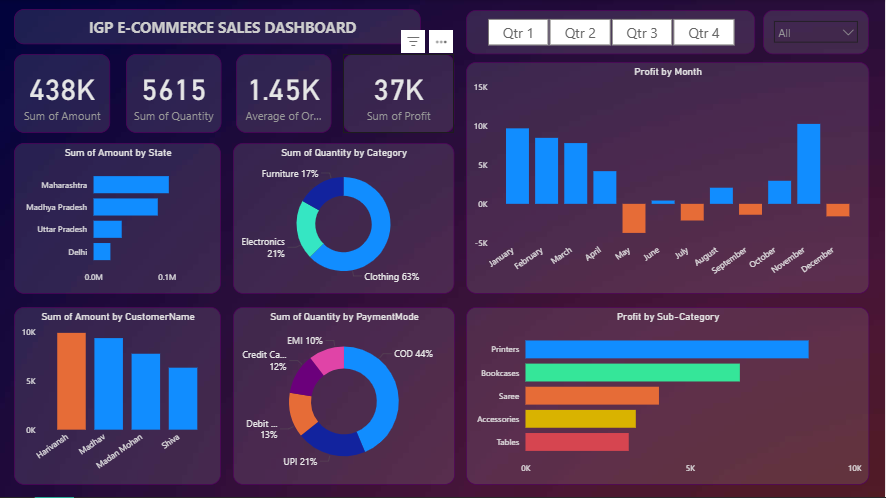

The page's visual inventory and layout, read from the dashboard file:
{"tool":"powerbi","page":{"name":"Page 1","canvas":[1280,720],"ordinal":0},"visuals":[{"type":"columnChart","title":"Profit by Month","fields":{"Category":["Orders.Order Date.Variation.Date Hierarchy.Month"],"Y":["Details.Profit"]},"box":[675.2,91.1,582.7,335.4],"z":0},{"type":"textbox","box":[21.7,14.5,588.4,50.6],"z":1000},{"type":"barChart","title":"Profit by Sub-Category","fields":{"Category":["Details.Sub-Category"],"Y":["Details.Profit"]},"box":[675.2,445.3,582.7,257.3],"z":2000},{"type":"donutChart","fields":{"Category":["Details.Category"],"Y":["Details.Quantity"]},"box":[338.3,208.2,319.5,218.3],"z":3000},{"type":"donutChart","fields":{"Y":["Details.Quantity"],"Category":["Details.PaymentMode"]},"box":[337.6,445.1,320.8,257],"z":4000},{"type":"card","fields":{"Values":["Details.Amount"]},"box":[21.8,79,139.4,114.2],"z":5000},{"type":"card","fields":{"Values":["Details.Quantity"]},"box":[183.1,79,137.7,114.2],"z":6000},{"type":"card","fields":{"Values":["Details.Profit"]},"box":[497.2,79,161.3,114.2],"z":7000},{"type":"card","fields":{"Values":["Details.Order Value"]},"box":[342.7,79,137.7,114.2],"z":8000},{"type":"barChart","title":"Sum of Amount by State","fields":{"Category":["Orders.State"],"Y":["Details.Amount"]},"box":[21.7,208.2,299.3,218.3],"z":9000},{"type":"columnChart","fields":{"Category":["Orders.CustomerName"],"Y":["Details.Amount"]},"box":[21.7,445.3,299.3,257.3],"z":10000},{"type":"slicer","fields":{"Values":["Orders.Order Date.Variation.Date Hierarchy.Quarter"]},"box":[675.2,15.9,417.8,63.6],"z":11000},{"type":"slicer","fields":{"Values":["Orders.State"]},"box":[1104.6,15.9,153.3,63.6],"z":12000}]}

Visuals, with their boxes in screenshot pixels (x1, y1, x2, y2), scaled from the page's 1280x720 canvas onto the 886x498 screenshot:
"Profit by Month" columnChart: l=467, t=63, r=871, b=295
textbox: l=15, t=10, r=422, b=45
"Profit by Sub-Category" barChart: l=467, t=308, r=871, b=486
donutChart - Details.Category x Details.Quantity: l=234, t=144, r=455, b=295
donutChart - Details.Quantity x Details.PaymentMode: l=234, t=308, r=456, b=486
card - Details.Amount: l=15, t=55, r=112, b=134
card - Details.Quantity: l=127, t=55, r=222, b=134
card - Details.Profit: l=344, t=55, r=456, b=134
card - Details.Order Value: l=237, t=55, r=333, b=134
"Sum of Amount by State" barChart: l=15, t=144, r=222, b=295
columnChart - Orders.CustomerName x Details.Amount: l=15, t=308, r=222, b=486
slicer - Orders.Order Date.Variation.Date Hierarchy.Quarter: l=467, t=11, r=757, b=55
slicer - Orders.State: l=765, t=11, r=871, b=55
